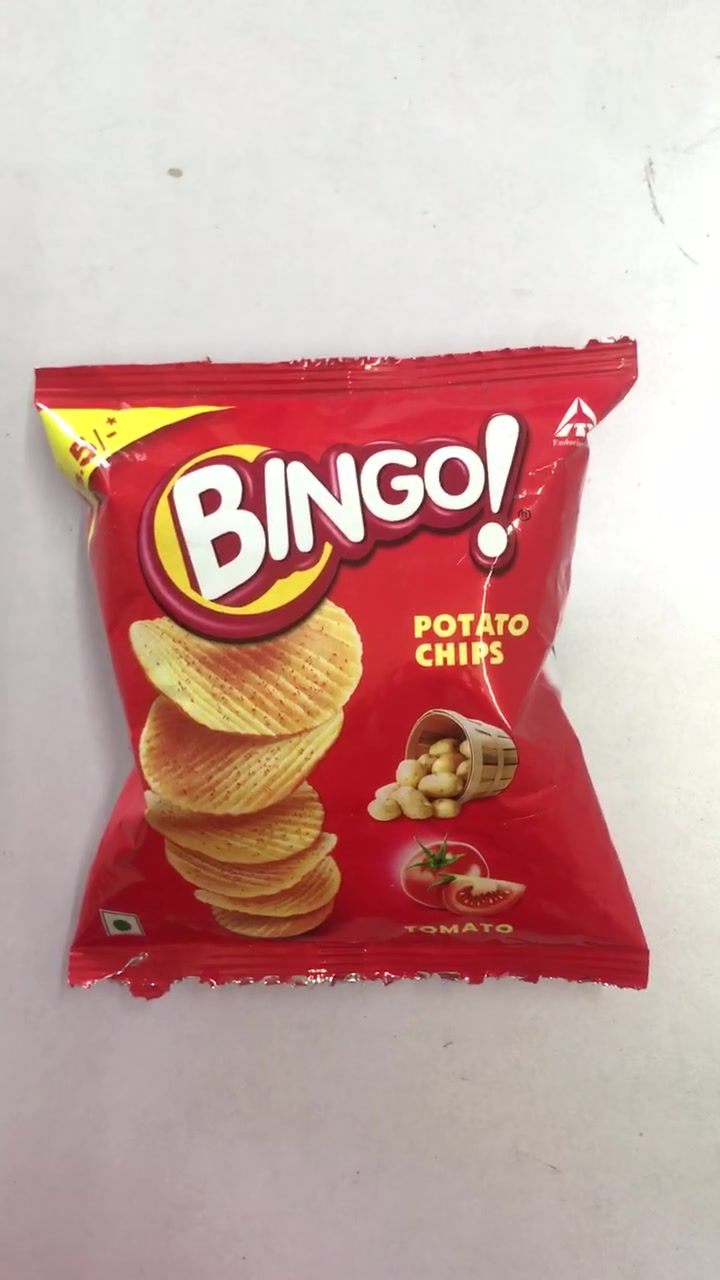Bingo: (39, 368, 635, 977)
